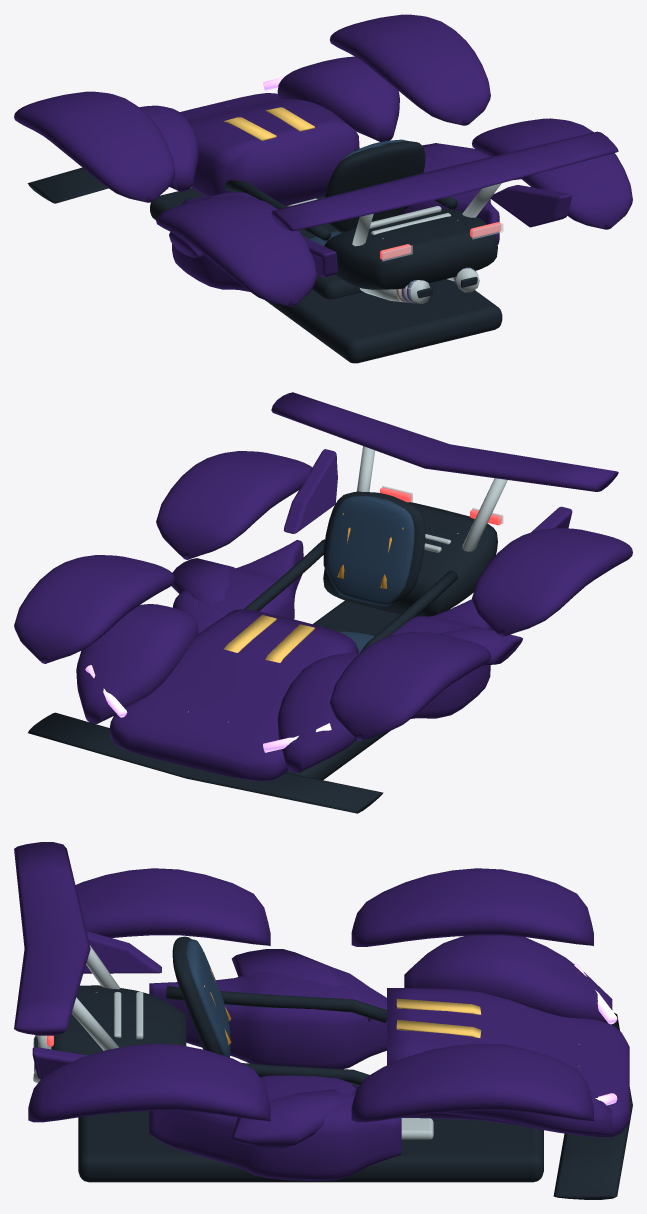
File: turbo.glb
3 views of the same model, one above another, from view 1: azimuth 30°, elevation 25°; view 2: azimuth 150°, elevation 25°; view 3: azimuth 270°, elevation 25° (orthographic). The views are drawn at different scales.
Parts seen in each view (by area): view 1: LOD0, ShowroomDetail; view 2: LOD0; view 3: LOD0.
Part boxes in pixels (x1,y1,x2,y2): LOD0: (14, 14, 632, 363); ShowroomDetail: (382, 223, 503, 303); LOD0: (14, 392, 632, 813); LOD0: (14, 842, 632, 1199).
Size of what is drawn, in the model's own units: 2.19 by 0.9507 by 2.53.
